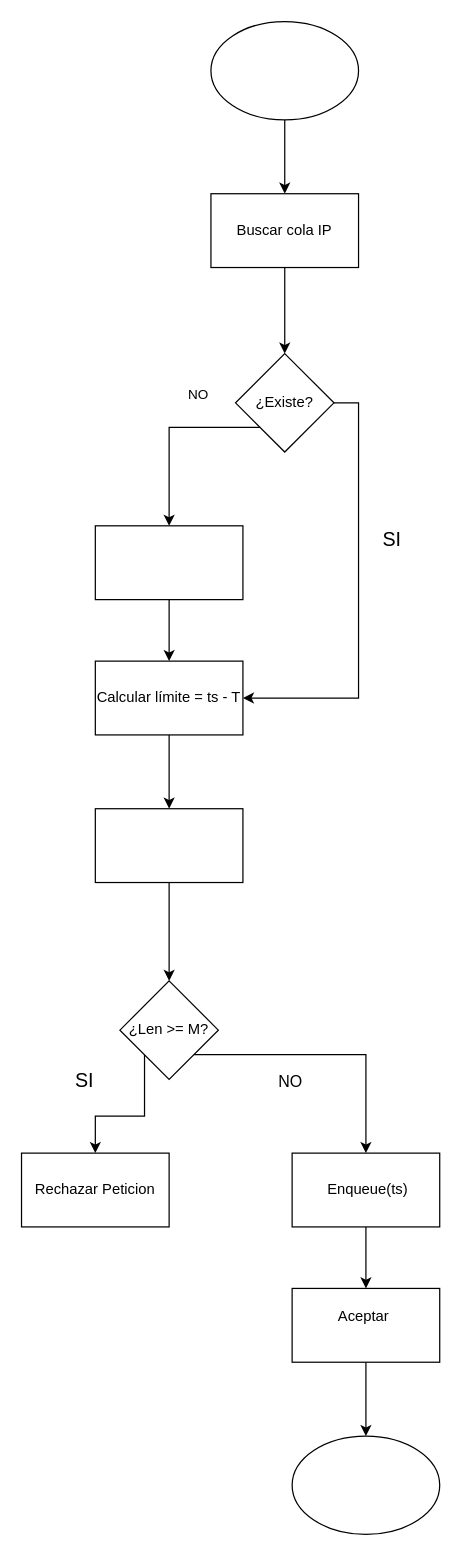
Some shapes in this 461 by 1556 pixel diagram are drawn without their labels. The box of each missing label's shape, as (x1, y1, x2, y2) in pixels:
Crear Cola: (94, 525, 243, 600)
Eliminar timestamps vencidos: (94, 807, 243, 883)
FIN: (291, 1435, 440, 1534)
INICIO: (210, 20, 359, 120)
